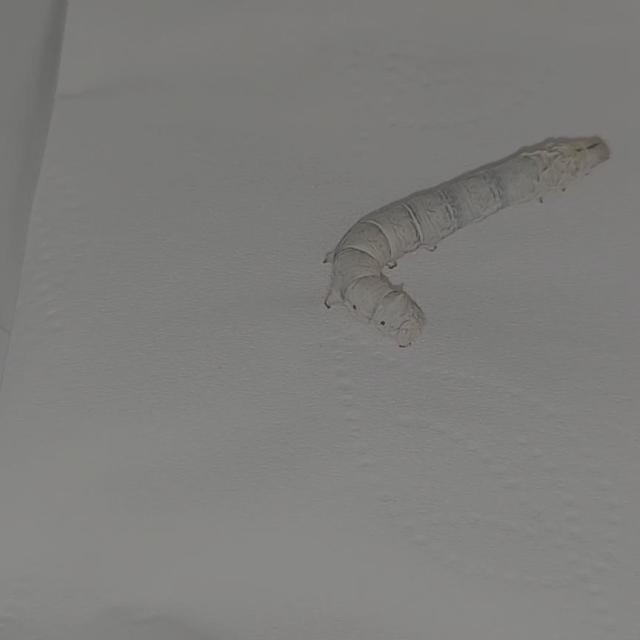Healthy: (307, 121, 618, 351)
